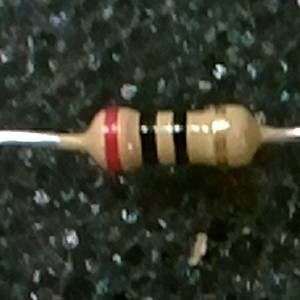black_band: (137, 107, 160, 167), (171, 105, 190, 168)
gold_band: (211, 101, 229, 172)
red_band: (103, 103, 124, 175)
